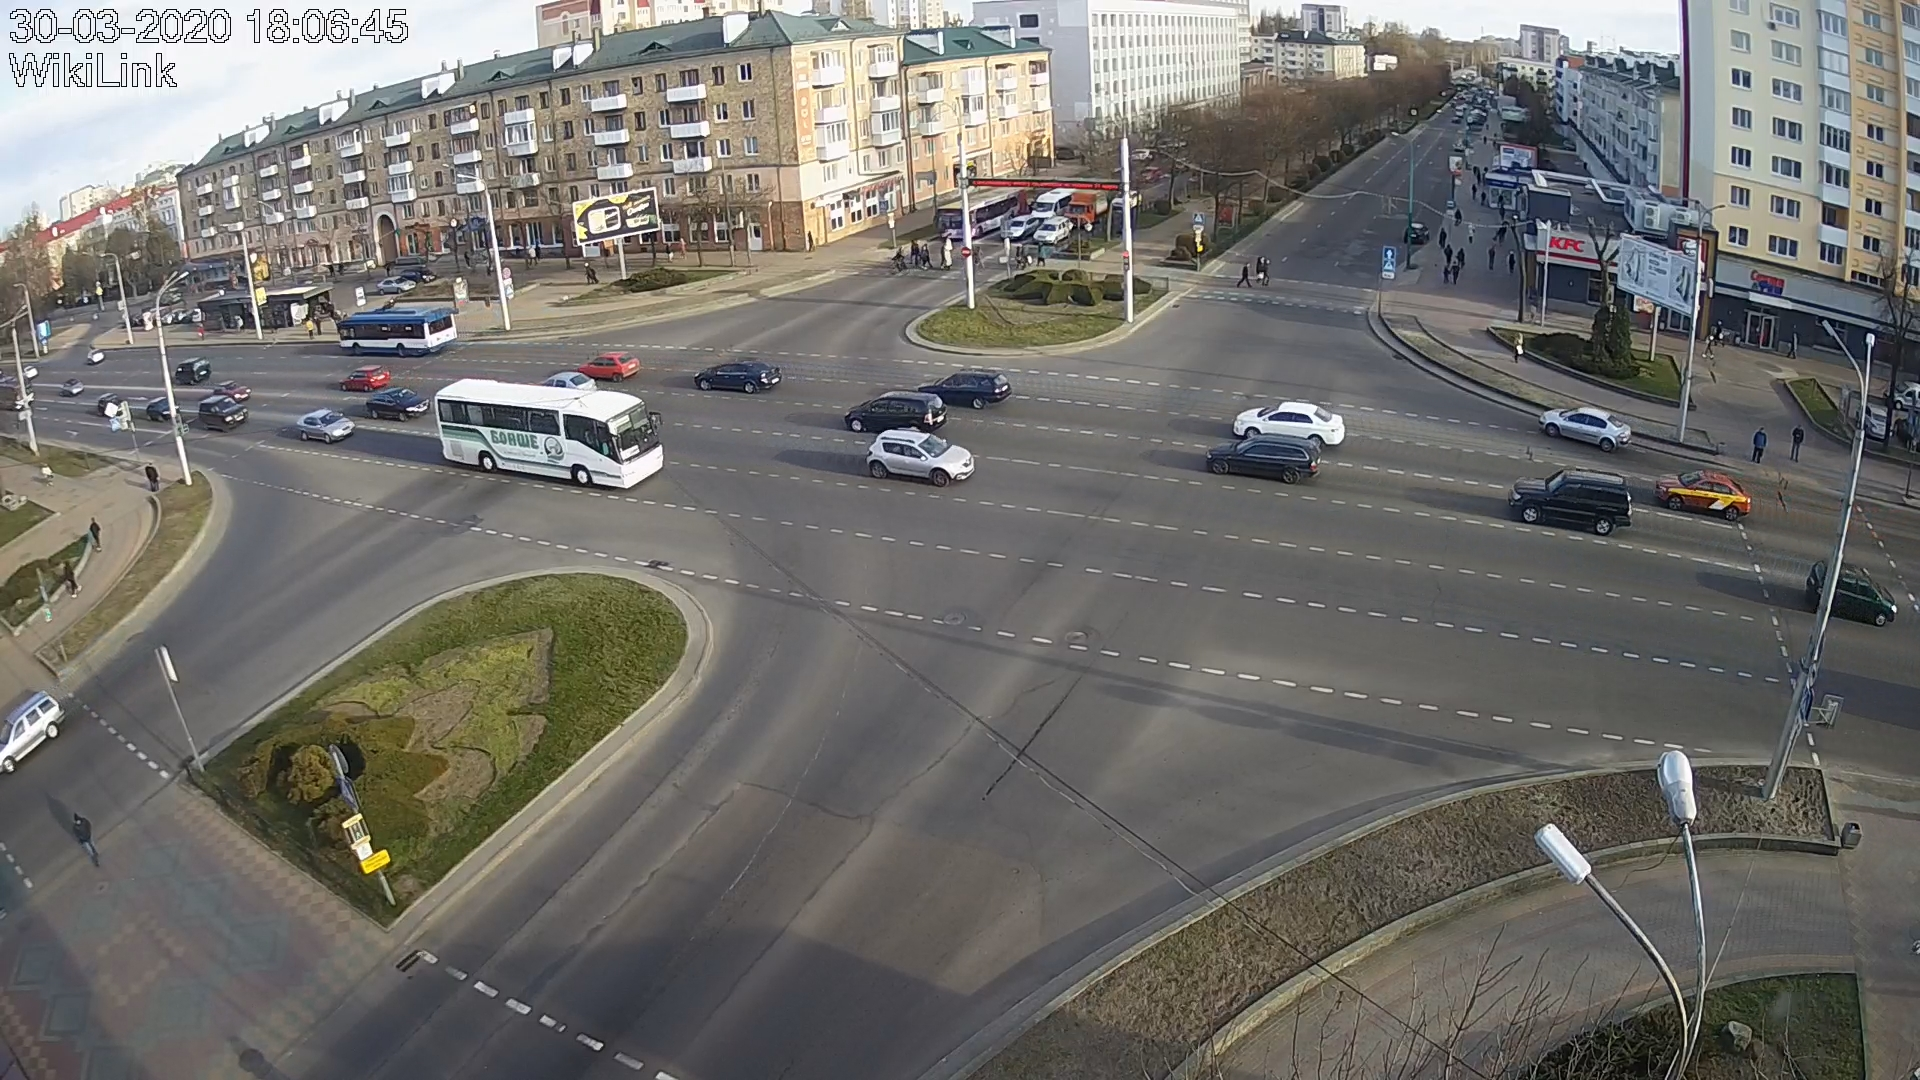bus: (434, 378, 665, 491), (338, 306, 458, 357), (938, 185, 1027, 241)
car: (1506, 465, 1633, 538), (864, 429, 975, 487), (1807, 560, 1899, 628), (1205, 433, 1320, 487), (1232, 400, 1346, 448), (1, 690, 65, 775), (1654, 469, 1753, 524), (844, 389, 948, 433), (1538, 406, 1633, 452), (916, 368, 1014, 409), (694, 357, 782, 394), (367, 386, 431, 422), (295, 407, 356, 444), (578, 352, 642, 382), (196, 396, 249, 433), (338, 364, 392, 392), (535, 371, 597, 392), (1034, 216, 1072, 245), (174, 357, 214, 384), (215, 380, 252, 402), (146, 396, 179, 421), (1010, 214, 1038, 237)
